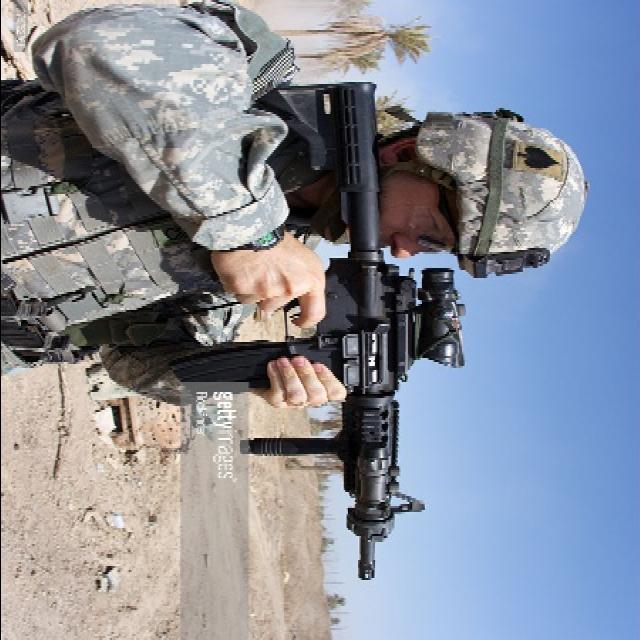rifle: (215, 79, 465, 579)
